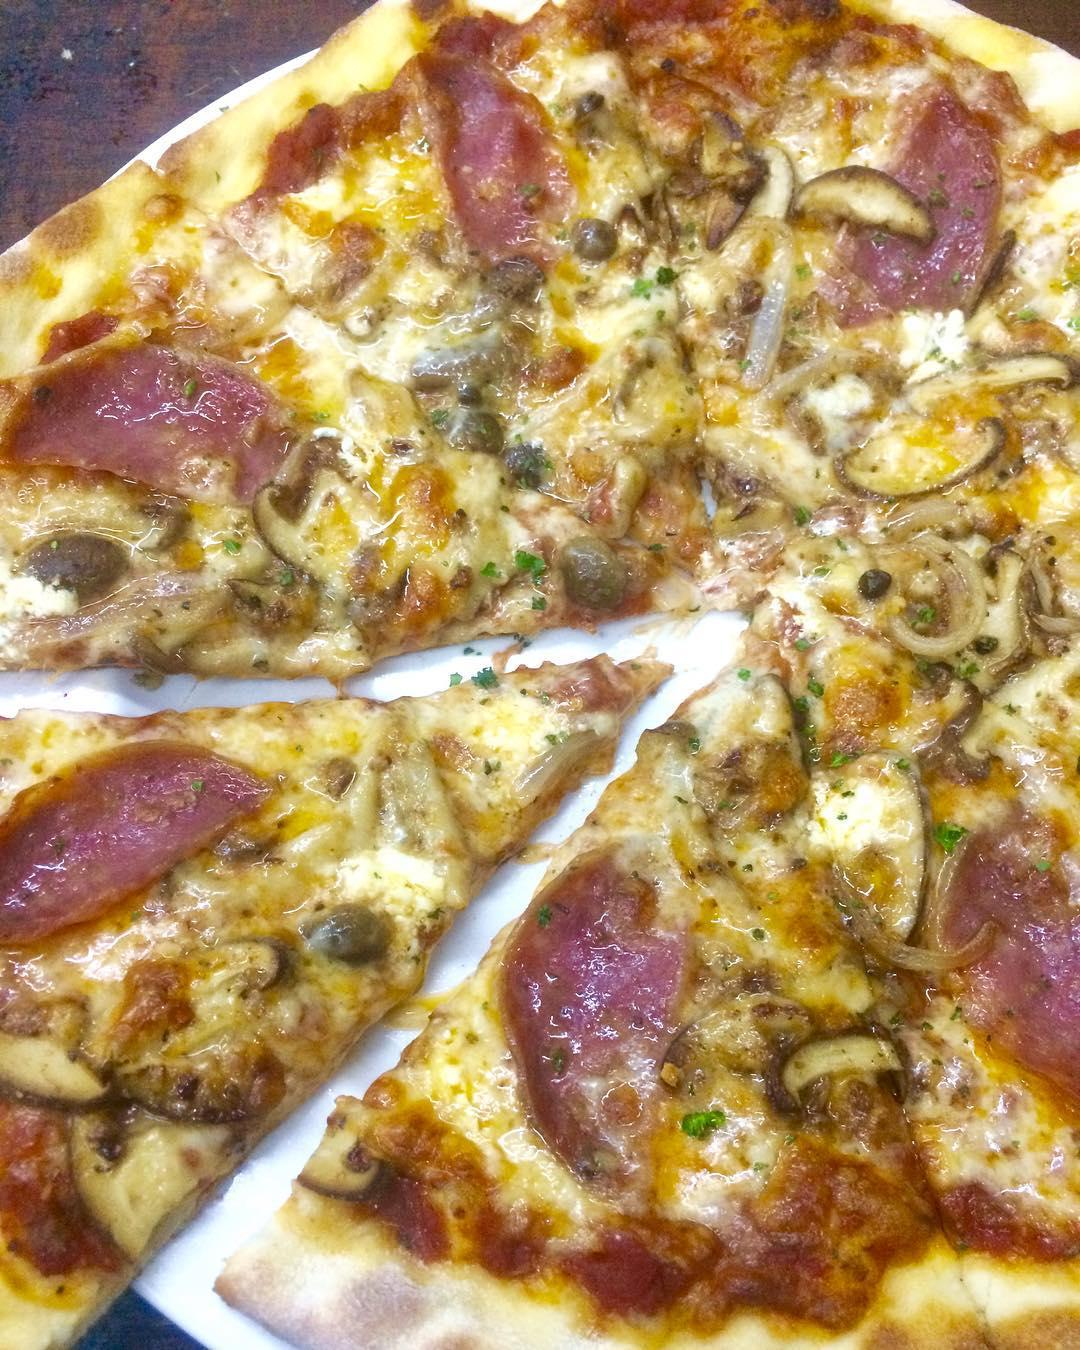Ham: (499, 850, 685, 1201), (0, 732, 282, 946), (0, 352, 303, 500), (835, 80, 997, 342), (930, 836, 1080, 1119), (447, 57, 564, 271)
Mushroom: (764, 1026, 916, 1115), (0, 998, 115, 1111), (900, 344, 1080, 411), (252, 478, 356, 593), (786, 172, 942, 245), (294, 1127, 390, 1202)
Pizza: (0, 0, 1080, 1350)
